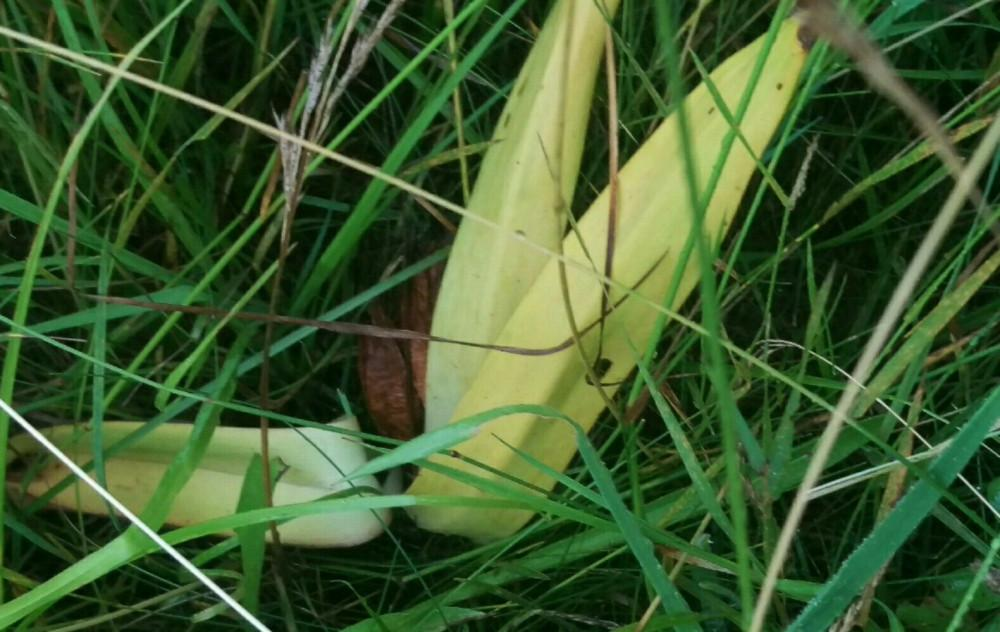Colchicum autumnale L: (138, 23, 797, 546)
